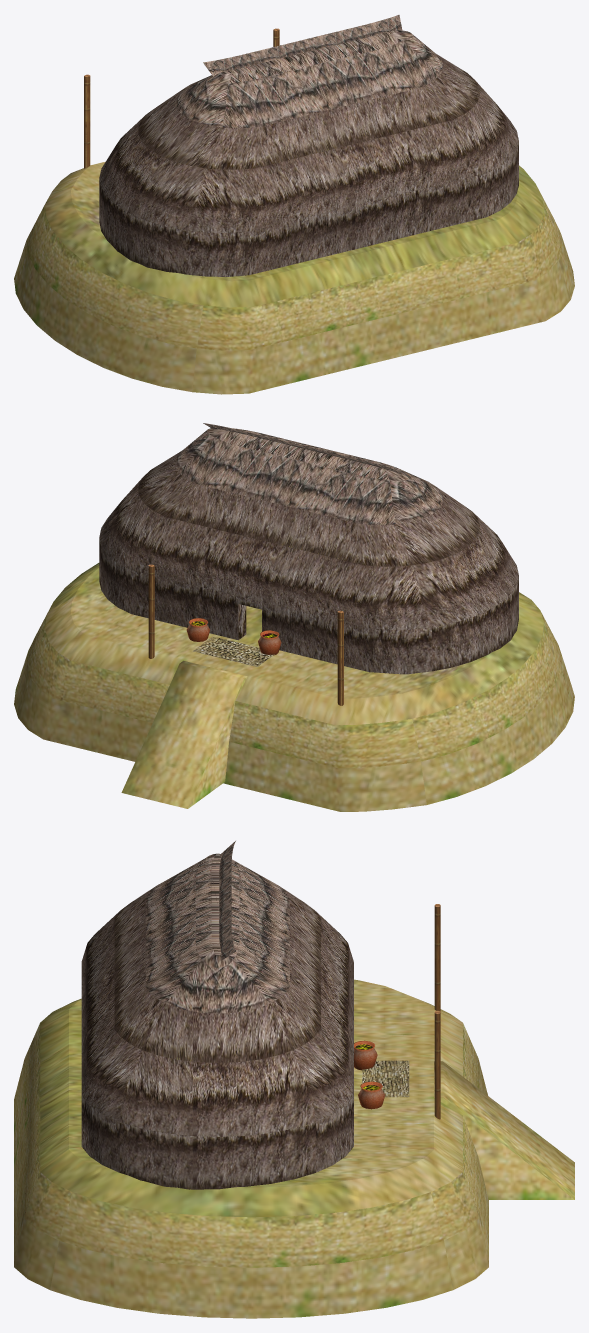
Rendered from inca_barracks.dae.
The picture shows the model from 3 angles, top to bottom: view 1: azimuth 30°, elevation 25°; view 2: azimuth 150°, elevation 25°; view 3: azimuth 270°, elevation 25°; orthographic projection. The views are drawn at different scales.
Parts seen in each view (by area): view 1: oca_tupi_BARRACKS; view 2: oca_tupi_BARRACKS; view 3: oca_tupi_BARRACKS.
Part boxes in pixels (left/top/right/bottom): oca_tupi_BARRACKS: left=14, top=15, right=574, bottom=394; oca_tupi_BARRACKS: left=14, top=423, right=574, bottom=811; oca_tupi_BARRACKS: left=14, top=841, right=574, bottom=1318.
Bounding box in the file's own units: 38.39 × 33.65 × 19.04.
